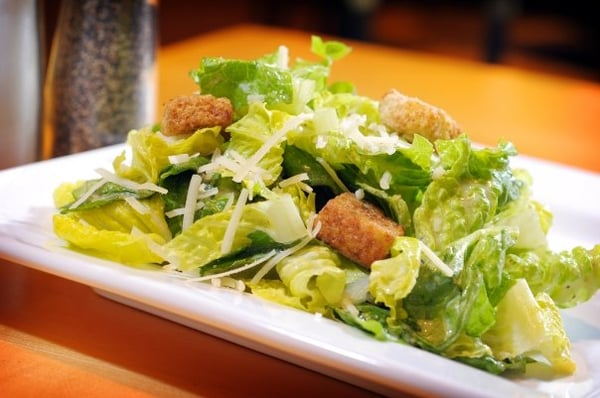pizza: (35, 0, 161, 161)
sushi: (0, 32, 599, 390)
